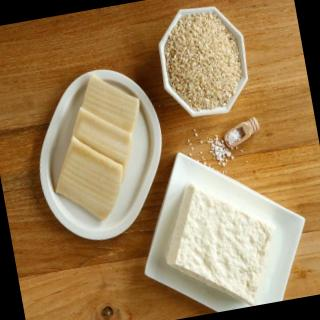Tahu: (129, 171, 299, 313)
